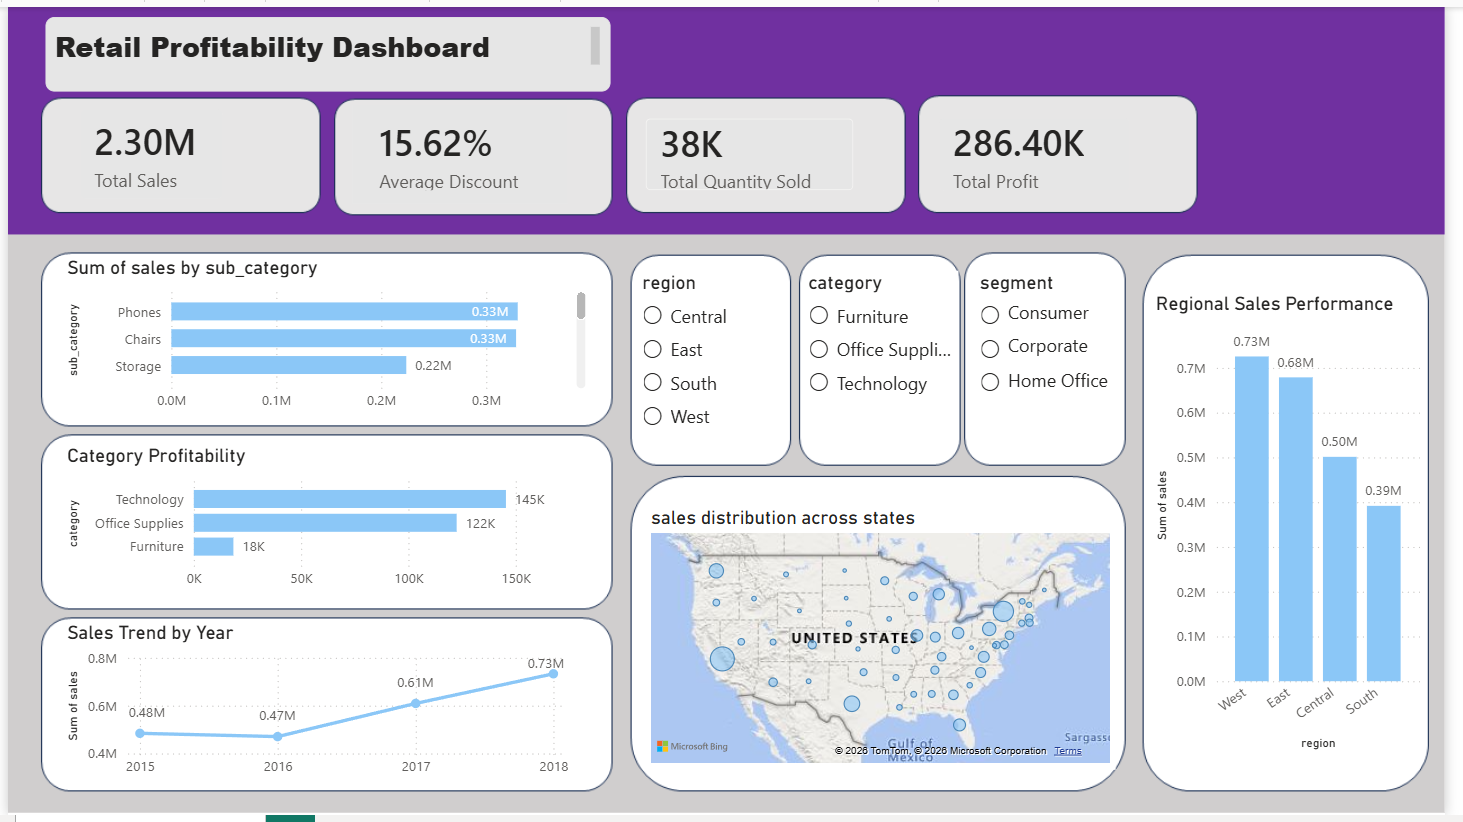

This screenshot's page, from the dashboard's own definition file:
{"tool":"powerbi","page":{"name":"Retail Profitability Dashboard","canvas":[1280,720],"ordinal":0},"visuals":[{"type":"cardVisual","fields":{"Data":["Sum(retail_analysis superstore_cleaned.sales)"]},"box":[48.3,74.8,160.5,113.4],"z":0},{"type":"cardVisual","fields":{"Data":["Sum(retail_analysis superstore_cleaned.profit)"]},"box":[813.1,82,203.9,98.9],"z":1000},{"type":"cardVisual","fields":{"Data":["Sum(retail_analysis superstore_cleaned.quantity)"]},"box":[551.3,82,219.6,98.9],"z":2000},{"type":"cardVisual","fields":{"Data":["Avg(retail_analysis superstore_cleaned.discount)"]},"box":[301.6,82,202.7,98.9],"z":3000},{"type":"listSlicer","fields":{"Values":["retail_analysis superstore_cleaned.category"]},"box":[708.2,235.3,138.7,154.4],"z":4000},{"type":"listSlicer","fields":{"Values":["retail_analysis superstore_cleaned.segment"]},"box":[860.2,235.3,127.9,161.7],"z":5000},{"type":"listSlicer","fields":{"Values":["retail_analysis superstore_cleaned.region"]},"box":[559.8,235.3,133.9,149.6],"z":6000},{"type":"clusteredBarChart","title":"Category Profitability","fields":{"Category":["retail_analysis superstore_cleaned.category"],"Y":["Sum(retail_analysis superstore_cleaned.profit)"]},"box":[48.3,389.7,471.7,137.5],"z":7000},{"type":"clusteredBarChart","fields":{"Category":["retail_analysis superstore_cleaned.sub_category"],"Y":["Sum(retail_analysis superstore_cleaned.sales)"]},"box":[48.3,222,471.7,147.2],"z":8000},{"type":"lineChart","title":"Sales Trend by Year","fields":{"Y":["Sum(retail_analysis superstore_cleaned.sales)"],"Category":["retail_analysis superstore_cleaned.order_date.Variation.Date Hierarchy.Year","retail_analysis superstore_cleaned.order_date.Variation.Date Hierarchy.Quarter","retail_analysis superstore_cleaned.order_date.Variation.Date Hierarchy.Month","retail_analysis superstore_cleaned.order_date.Variation.Date Hierarchy.Day"]},"box":[48.3,546.5,456,148.4],"z":9000},{"type":"map","title":"sales distribution across states","fields":{"Size":["Sum(retail_analysis superstore_cleaned.sales)"],"Category":["retail_analysis superstore_cleaned.state"]},"box":[568.2,444,418.6,234],"z":10000},{"type":"clusteredColumnChart","title":"Regional Sales Performance","fields":{"Category":["retail_analysis superstore_cleaned.region"],"Y":["Sum(retail_analysis superstore_cleaned.sales)"]},"box":[1017,253.4,244.9,412.6],"z":11000},{"type":"textbox","box":[33.8,8.4,503.1,66.4],"z":12000}]}

Visuals, with their boxes in screenshot pixels (x1, y1, x2, y2), scaled from the page's 1280x720 canvas onto the 1463x822 screenshot:
cardVisual - Sum(retail_analysis superstore_cleaned.sales): {"x1": 55, "y1": 85, "x2": 239, "y2": 215}
cardVisual - Sum(retail_analysis superstore_cleaned.profit): {"x1": 929, "y1": 94, "x2": 1162, "y2": 207}
cardVisual - Sum(retail_analysis superstore_cleaned.quantity): {"x1": 630, "y1": 94, "x2": 881, "y2": 207}
cardVisual - Avg(retail_analysis superstore_cleaned.discount): {"x1": 345, "y1": 94, "x2": 576, "y2": 207}
listSlicer - retail_analysis superstore_cleaned.category: {"x1": 809, "y1": 269, "x2": 968, "y2": 445}
listSlicer - retail_analysis superstore_cleaned.segment: {"x1": 983, "y1": 269, "x2": 1129, "y2": 453}
listSlicer - retail_analysis superstore_cleaned.region: {"x1": 640, "y1": 269, "x2": 793, "y2": 439}
"Category Profitability" clusteredBarChart: {"x1": 55, "y1": 445, "x2": 594, "y2": 602}
clusteredBarChart - retail_analysis superstore_cleaned.sub_category x Sum(retail_analysis superstore_cleaned.sales): {"x1": 55, "y1": 253, "x2": 594, "y2": 422}
"Sales Trend by Year" lineChart: {"x1": 55, "y1": 624, "x2": 576, "y2": 793}
"sales distribution across states" map: {"x1": 649, "y1": 507, "x2": 1128, "y2": 774}
"Regional Sales Performance" clusteredColumnChart: {"x1": 1162, "y1": 289, "x2": 1442, "y2": 760}
textbox: {"x1": 39, "y1": 10, "x2": 614, "y2": 85}
